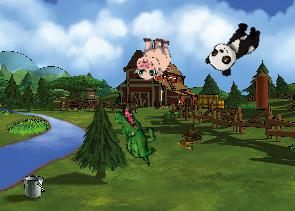crocodile: (101, 102, 170, 168)
panda: (202, 15, 266, 80)
pig: (133, 36, 173, 80)
